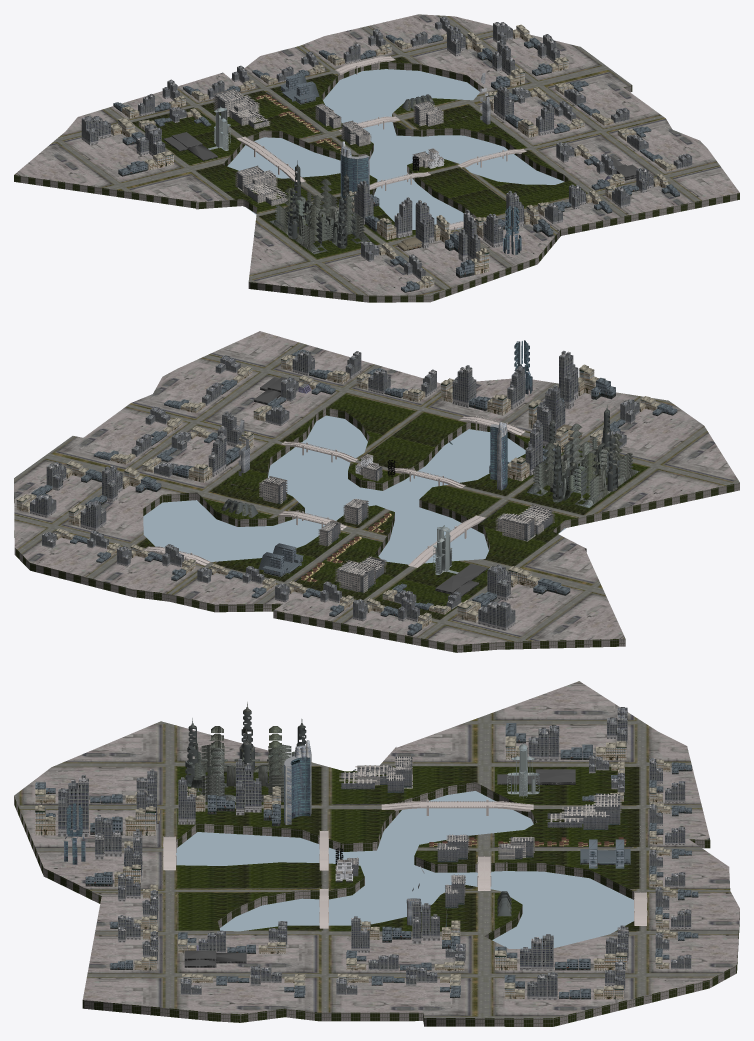
Rendered from city_map_free.glb.
The picture shows the model from 3 angles, top to bottom: view 1: azimuth 30°, elevation 25°; view 2: azimuth 150°, elevation 25°; view 3: azimuth 270°, elevation 25°; orthographic projection. The views are drawn at different scales.
Visible parts, largest first — view 1: Material2 (×16); view 2: Material2 (×16); view 3: Material2 (×15).
Part boxes in pixels (bbox=[...]): Material2 (×16): bbox=[14, 14, 739, 302]; Material2 (×16): bbox=[14, 331, 739, 652]; Material2 (×15): bbox=[14, 681, 739, 1026].
Size of the model in its own units: 411 by 46.9 by 374.
Materials: 25 (22 with a texture image).
